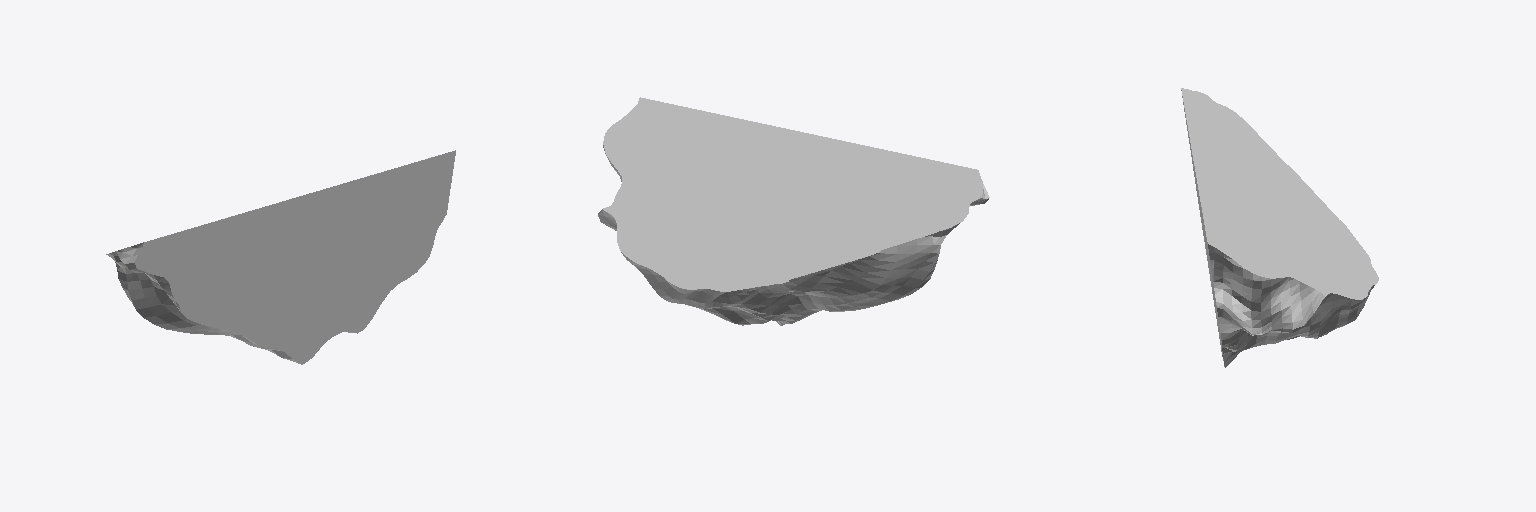
File: Asteroid2fifth3.obj
3 views of the same model, side by side, from view 1: azimuth 30°, elevation 25°; view 2: azimuth 150°, elevation 25°; view 3: azimuth 270°, elevation 25° (orthographic).
Parts seen in each view (by area): view 1: asteroid2; view 2: asteroid2; view 3: asteroid2.
Part boxes in pixels (bbox=[...]): asteroid2: bbox=[106, 150, 455, 364]; asteroid2: bbox=[598, 97, 989, 325]; asteroid2: bbox=[1181, 88, 1378, 367].
Bounding box in the file's own units: 2.56 × 1.28 × 1.24.